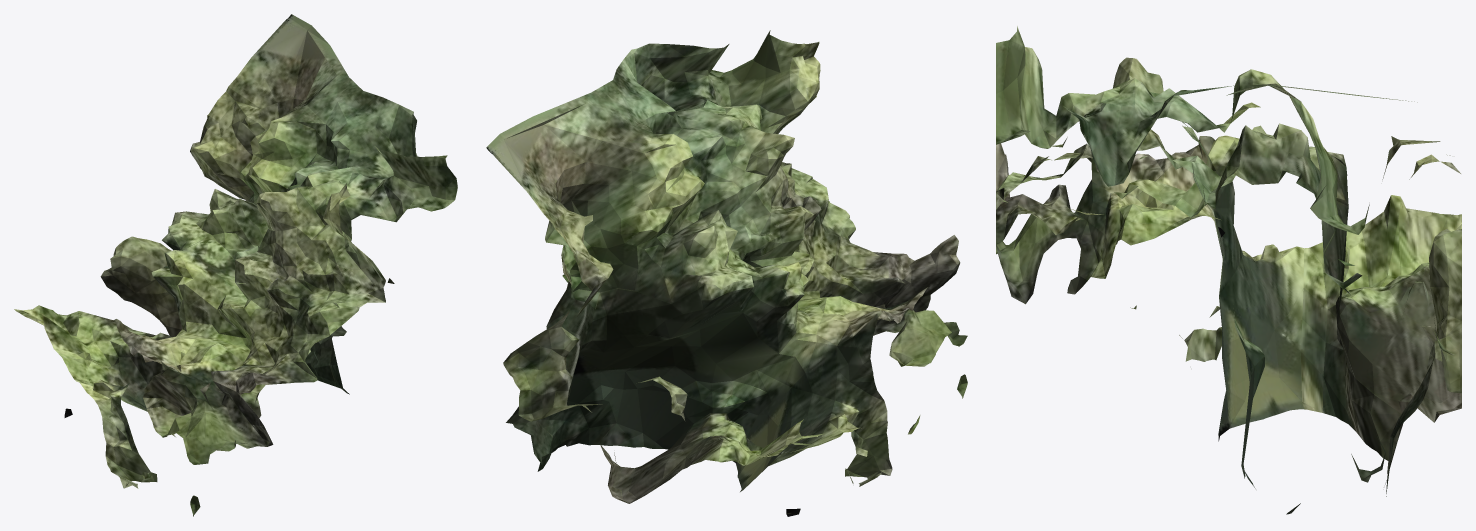
The picture shows the model from 3 angles, left to right: view 1: azimuth 30°, elevation 25°; view 2: azimuth 150°, elevation 25°; view 3: azimuth 270°, elevation 25°; orthographic projection. The views are drawn at different scales.
Size of the model in its own units: 10.95 by 11.8 by 11.8.
Materials: 6 (6 with a texture image).
